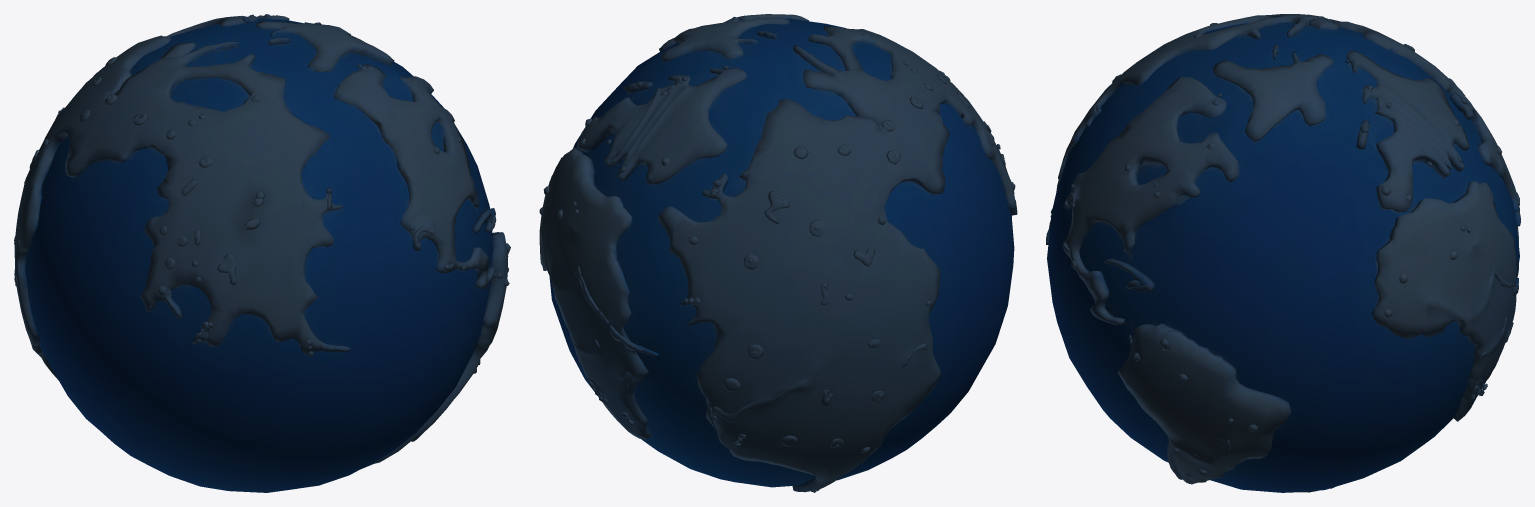
Rendered from tripo-planet.glb.
3 views of the same model, side by side, from view 1: azimuth 30°, elevation 25°; view 2: azimuth 150°, elevation 25°; view 3: azimuth 270°, elevation 25° (orthographic).
Visible parts, largest first — view 1: tripo_node_9cc53fb1-af2e-41af-9783-60c0a822d290; view 2: tripo_node_9cc53fb1-af2e-41af-9783-60c0a822d290; view 3: tripo_node_9cc53fb1-af2e-41af-9783-60c0a822d290.
Boxes of the visible parts, <box> form: tripo_node_9cc53fb1-af2e-41af-9783-60c0a822d290: <box>14,14,510,492</box>; tripo_node_9cc53fb1-af2e-41af-9783-60c0a822d290: <box>539,14,1017,492</box>; tripo_node_9cc53fb1-af2e-41af-9783-60c0a822d290: <box>1046,14,1520,492</box>.
Bounding box in the file's own units: 0.998 × 0.998 × 0.998.
Materials: 1 (1 with a texture image).
